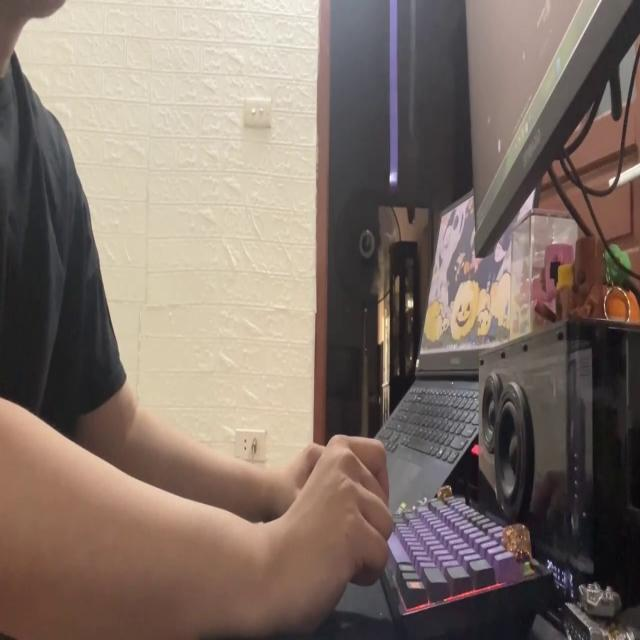laptop: (370, 176, 538, 503), (459, 0, 640, 252)
student: (1, 0, 391, 640)
